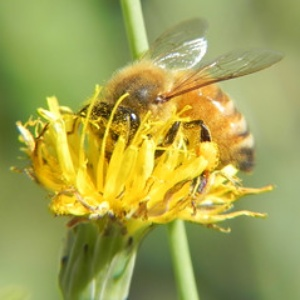bee: (75, 15, 286, 162)
